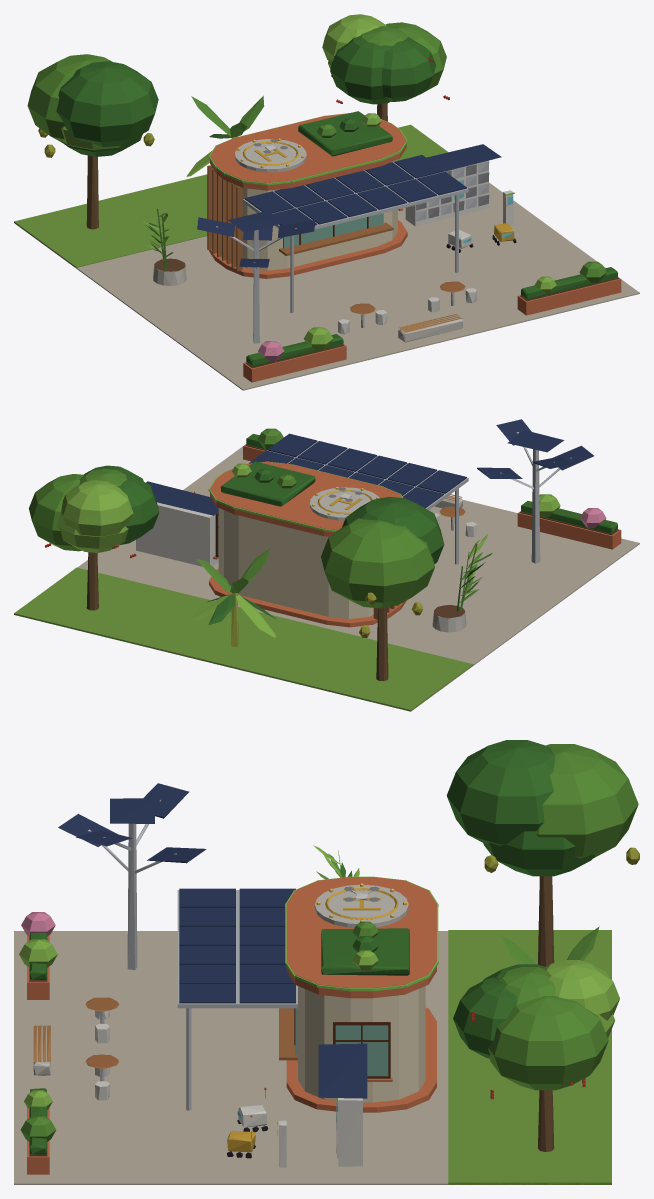
File: shop_1.glb
3 renders of one model, top to bottom at view 1: azimuth 30°, elevation 25°; view 2: azimuth 150°, elevation 25°; view 3: azimuth 270°, elevation 25°, orthographic. The views are drawn at different scales.
Parts seen in each view (by area): view 1: body, windows; view 2: body, windows; view 3: body, windows.
Boxes of the visible parts, x1,y1,x2,y2 form: body: [14, 14, 639, 390]; windows: [208, 113, 514, 243]; body: [14, 419, 639, 711]; windows: [208, 461, 402, 532]; body: [14, 740, 639, 1184]; windows: [226, 876, 438, 1143].
Size of the model in its own units: 16.03 by 6.48 by 16.65.
